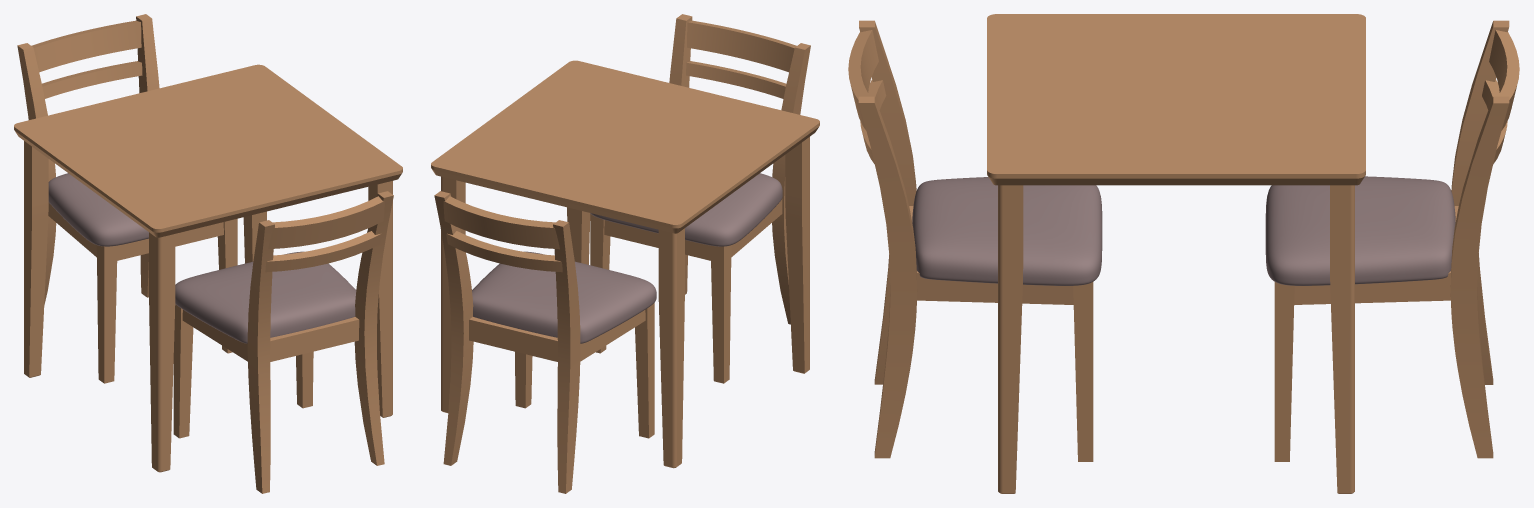
The model's file is 582_ダイニングテーブルセット2人掛け.glb.
3 views of the same model, side by side, from view 1: azimuth 30°, elevation 25°; view 2: azimuth 150°, elevation 25°; view 3: azimuth 270°, elevation 25° (orthographic). The views are drawn at different scales.
Parts seen in each view (by area): view 1: Body, chair2, chair1; view 2: Body, chair1, chair2; view 3: Body, chair1, chair2.
Part boxes in pixels (bbox=[...]): Body: bbox=[14, 64, 402, 472]; chair2: bbox=[173, 191, 393, 493]; chair1: bbox=[17, 14, 237, 383]; Body: bbox=[431, 60, 819, 468]; chair1: bbox=[434, 191, 656, 493]; chair2: bbox=[590, 14, 810, 383]; Body: bbox=[987, 14, 1365, 493]; chair1: bbox=[1265, 20, 1519, 461]; chair2: bbox=[848, 20, 1102, 461].
Bounding box in the file's own units: 0.75 × 0.78 × 1.33.
